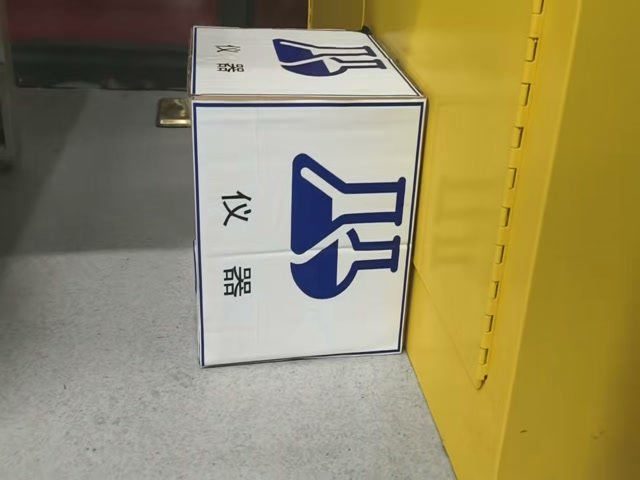Cube_ins: (186, 25, 427, 100)
